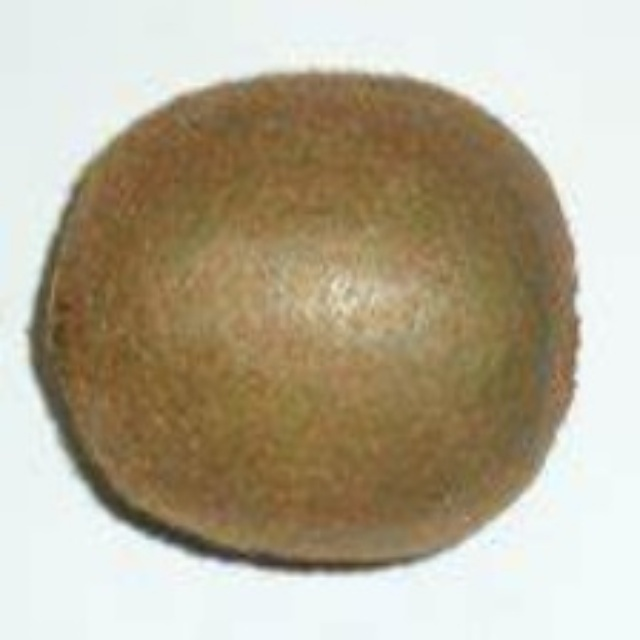kiwi: (33, 65, 586, 576)
